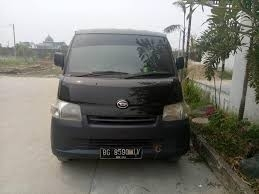plate: (101, 146, 142, 160)
